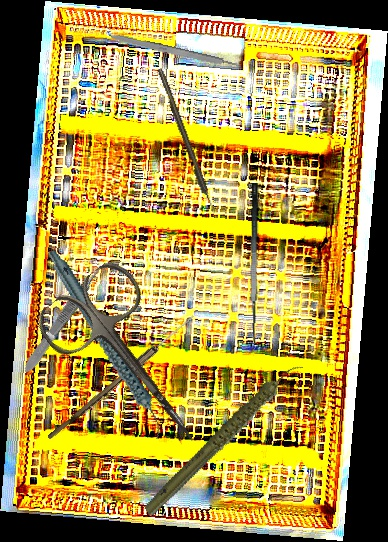Handpiece: (120, 359, 330, 520), (47, 235, 166, 454)
Hook Surgical: (156, 67, 217, 216)
Iris Scissors: (30, 254, 234, 474)
Scalpel Handle: (107, 32, 240, 71)
Spatula Surgical: (245, 183, 273, 348)
Surgical Spoon: (47, 312, 196, 443)
Tissue Forceps: (19, 261, 108, 376)
